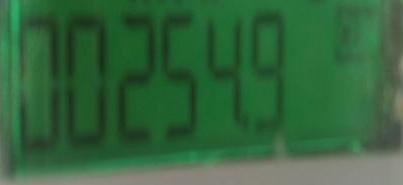1: (17, 16, 64, 148), (62, 19, 108, 146)
3: (113, 14, 158, 143)
5: (203, 19, 247, 126)
6: (161, 11, 200, 138)
:: (248, 11, 291, 130)
